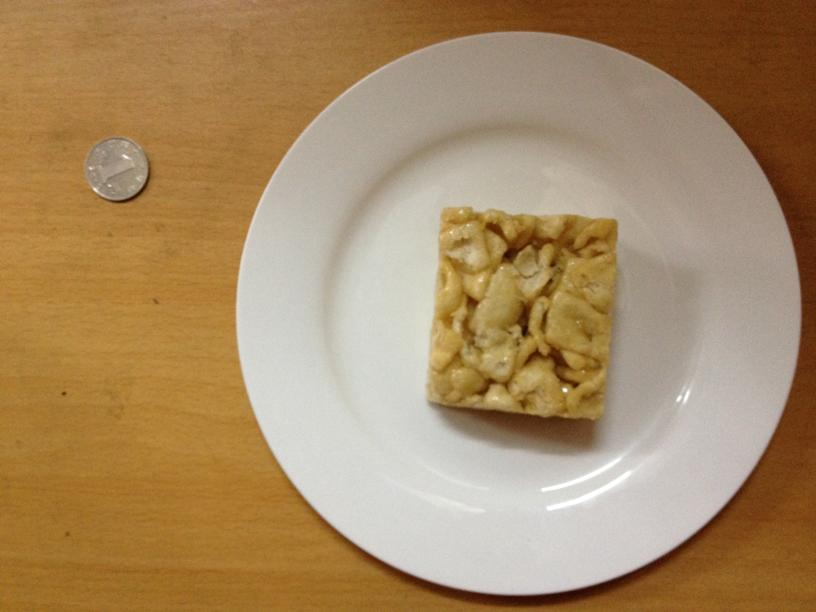coin: (81, 134, 152, 202)
sachima: (420, 207, 620, 422)
